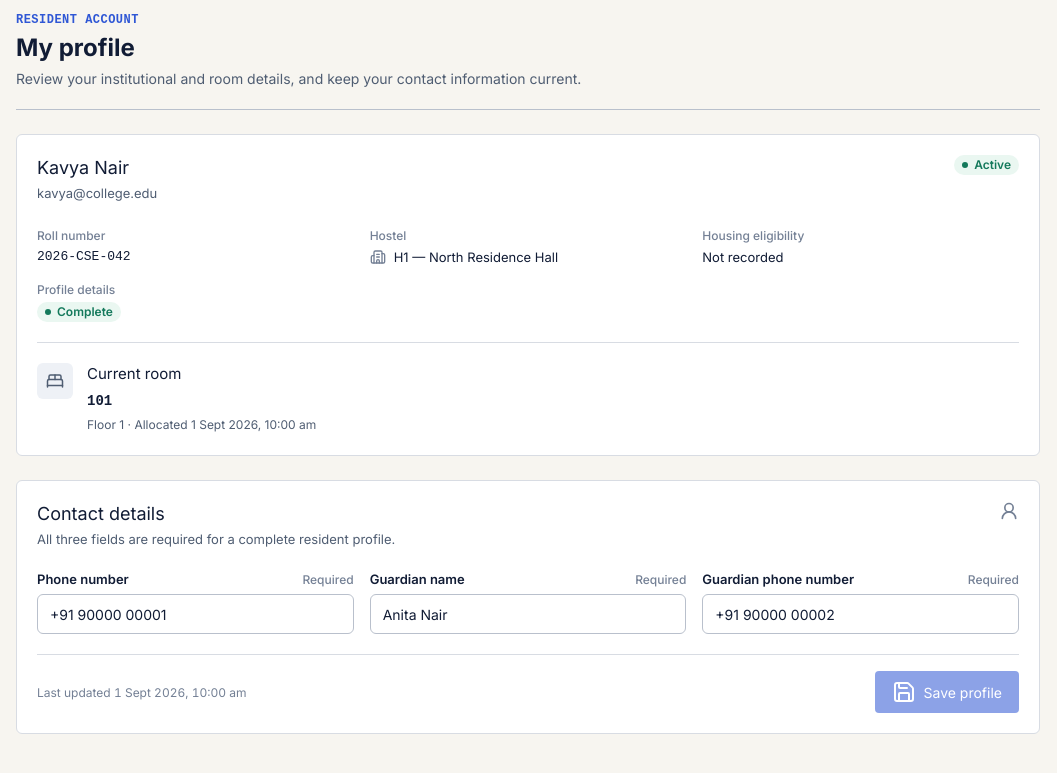
Test case: student profile › keeps invalid phone input on the client and focuses the field
Step 1. Replace the text in the field labelled "Phone number" with "123" → (195, 614), box [37,594,354,634]
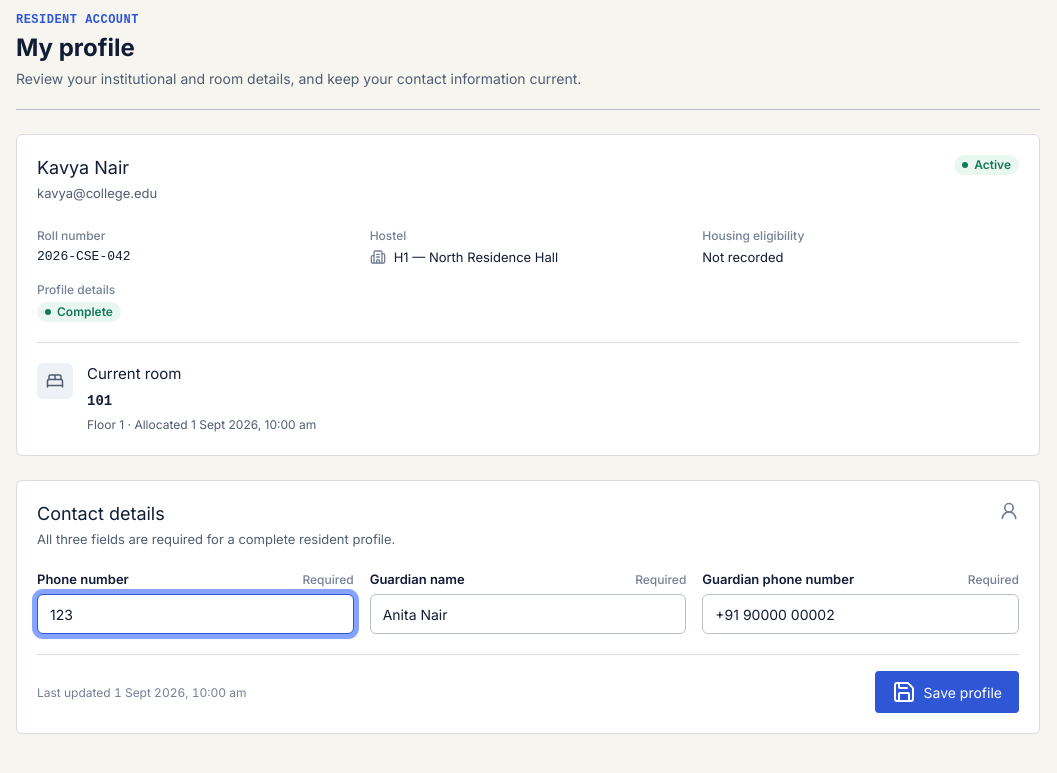
Step 2. Click the button "Save profile" → (947, 692), box [874,671,1019,713]
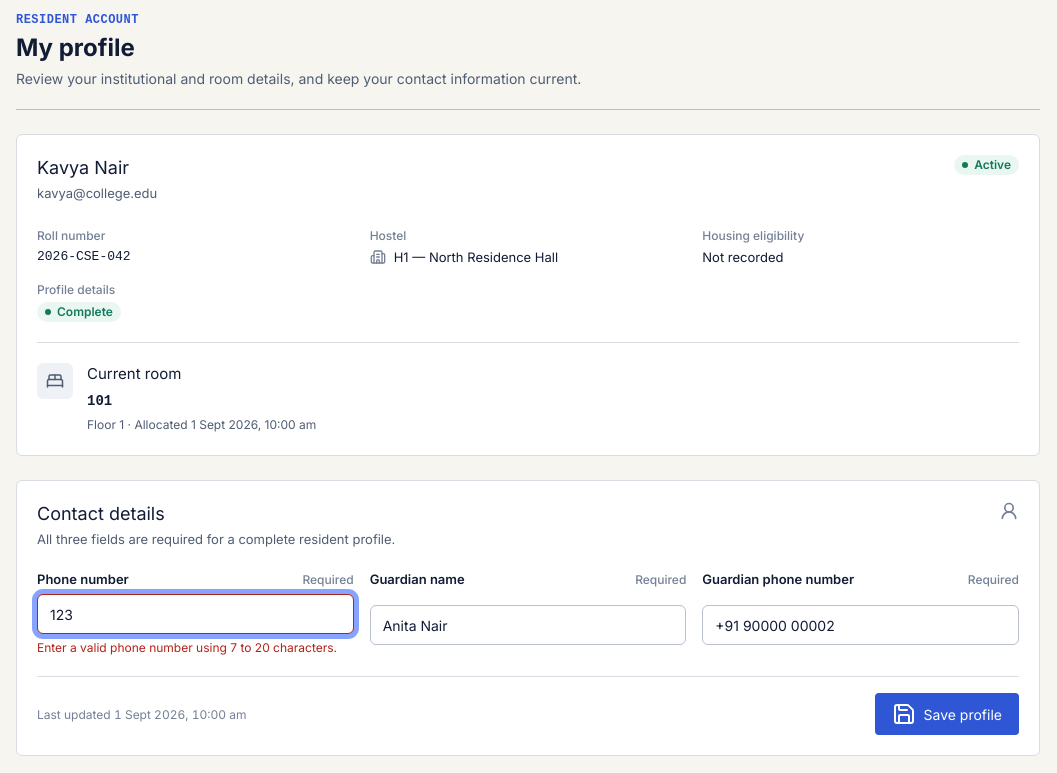
Expected: the message shows "Enter a valid phone number", [37,640,337,655]
